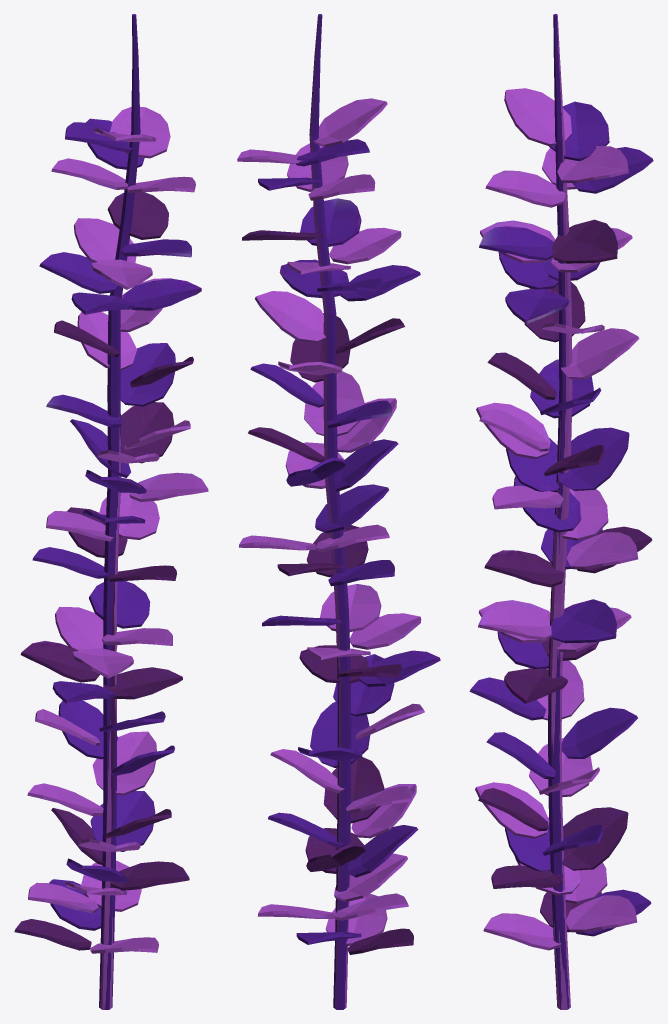
The model's file is seaweed.glb.
The picture shows the model from 3 angles, left to right: view 1: azimuth 30°, elevation 25°; view 2: azimuth 150°, elevation 25°; view 3: azimuth 270°, elevation 25°; orthographic projection. The views are drawn at different scales.
Parts seen in each view (by area): view 1: Cylinder; view 2: Cylinder; view 3: Cylinder.
Boxes of the visible parts, x1,y1,x2,y2 form: Cylinder: [14, 14, 208, 1009]; Cylinder: [237, 14, 440, 1009]; Cylinder: [469, 14, 653, 1009].
Bounding box in the file's own units: 0.32 × 1.89 × 0.3137.
Materials: 1 (1 with a texture image).
